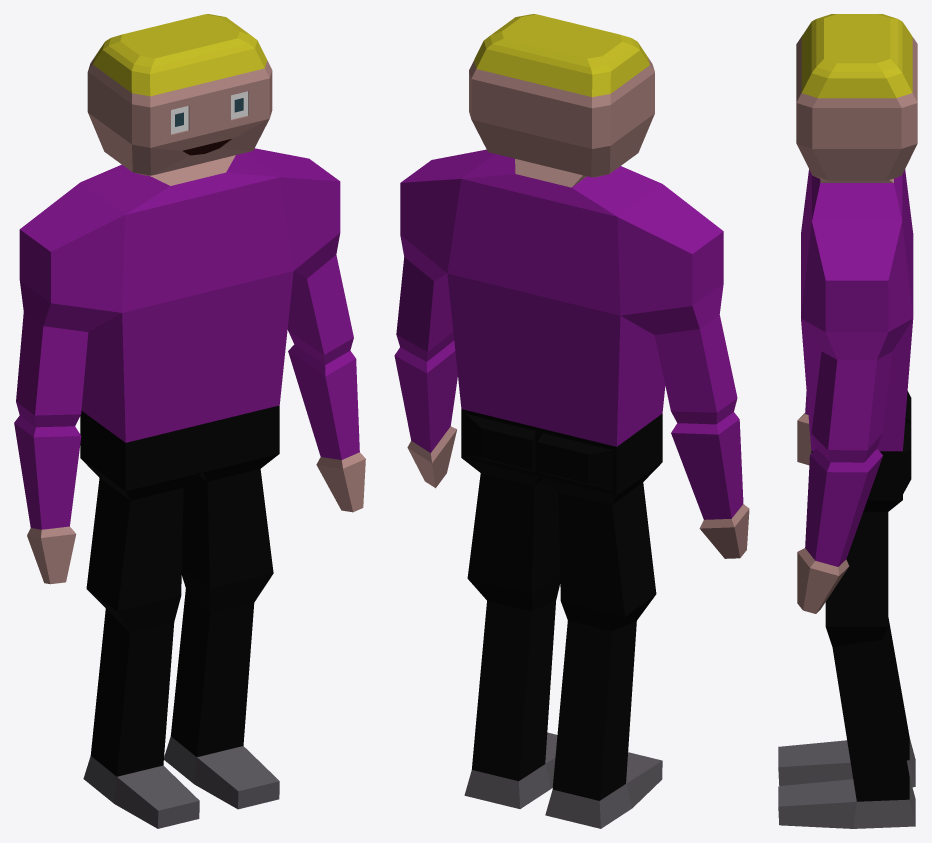
The model's file is Bystander3.fbx.
3 views of the same model, side by side, from view 1: azimuth 30°, elevation 25°; view 2: azimuth 150°, elevation 25°; view 3: azimuth 270°, elevation 25° (orthographic).
Visible parts, largest first — view 1: Cube; view 2: Cube; view 3: Cube.
Boxes of the visible parts, x1,y1,x2,y2 form: Cube: (14, 14, 365, 828); Cube: (394, 14, 749, 828); Cube: (778, 14, 917, 828).
Size of the model in its own units: 406 by 895 by 149.
